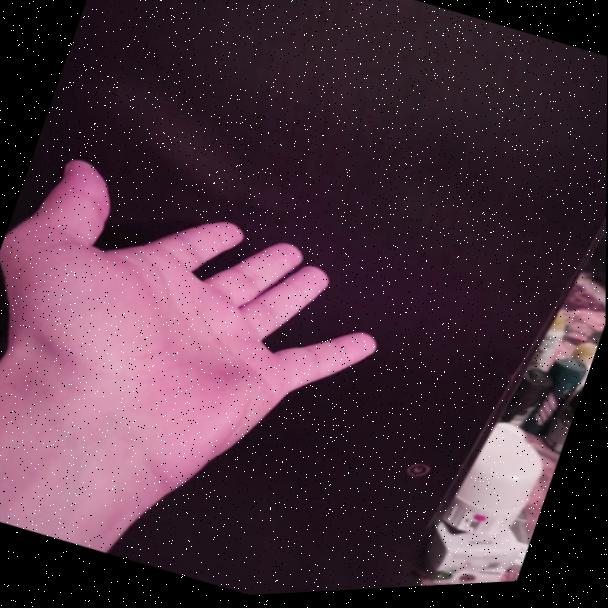five: (0, 126, 416, 493)
